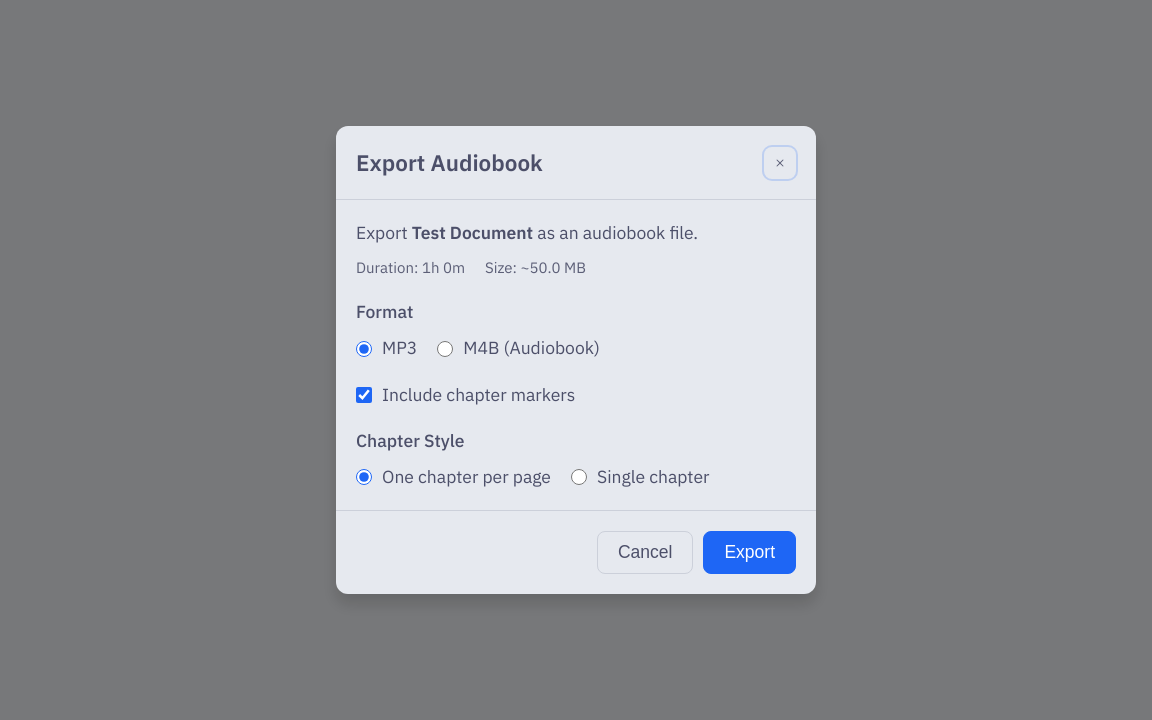
AudioExportDialog › progress state › disables footer cancel button during export
Step 1. Click the button "Export" → (750, 553), box [703,531,796,574]
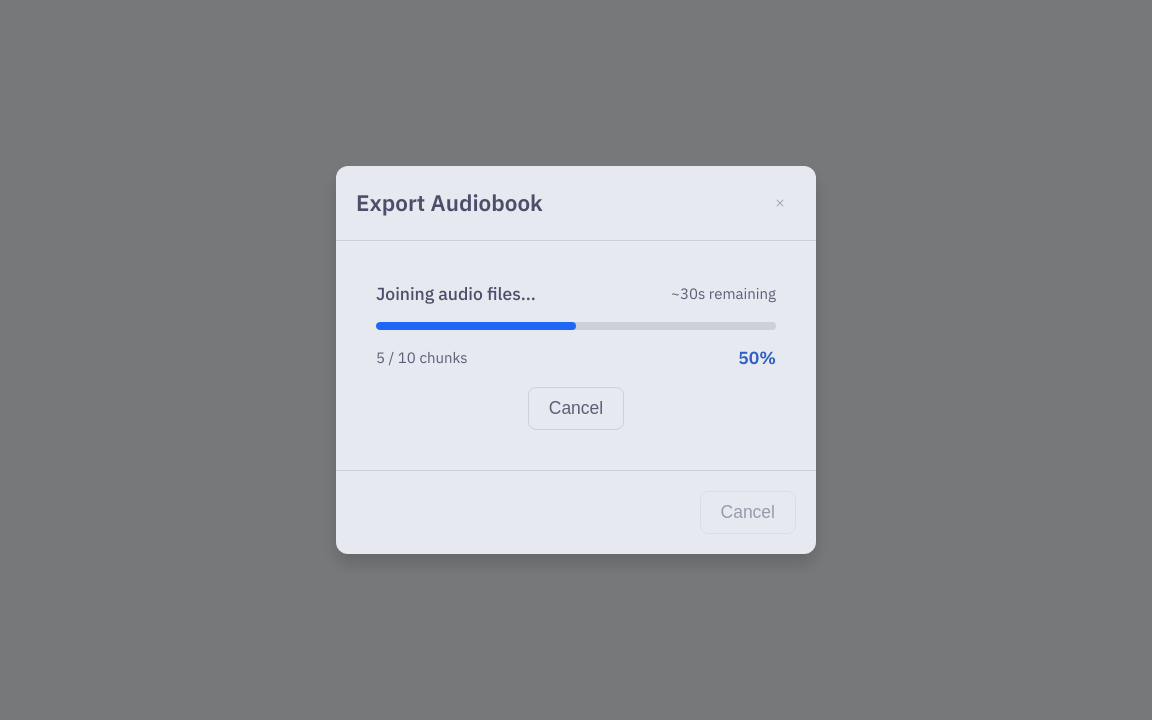
Expected: the 2nd button "Cancel" is disabled, [700,491,796,534]
